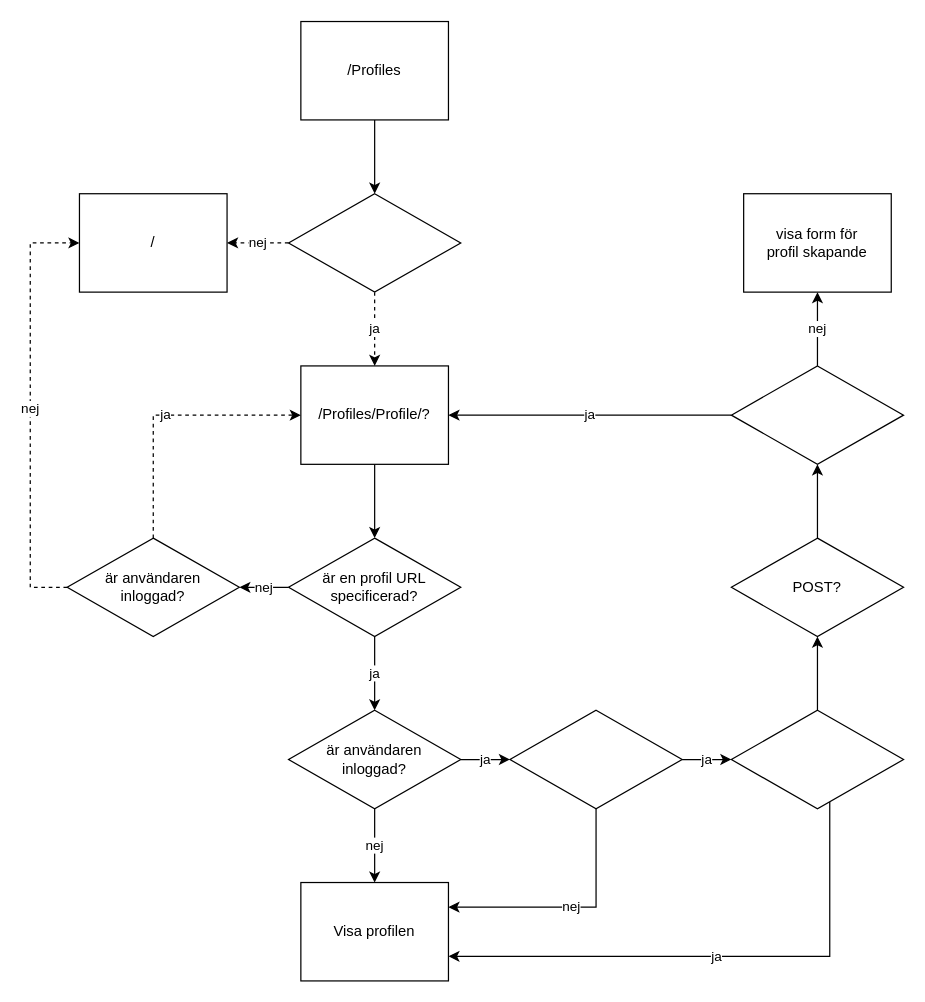
This 925x1002 diagram has some shape labels left out. The box of each missing label's shape, as (x1, y1, x2, y2) in pixels:
användarens profil finns?: (730, 709, 904, 809)
användarens profil?: (509, 709, 682, 809)
profil formet validerar?: (730, 365, 904, 464)
är en användare inloggad?: (287, 192, 461, 292)
